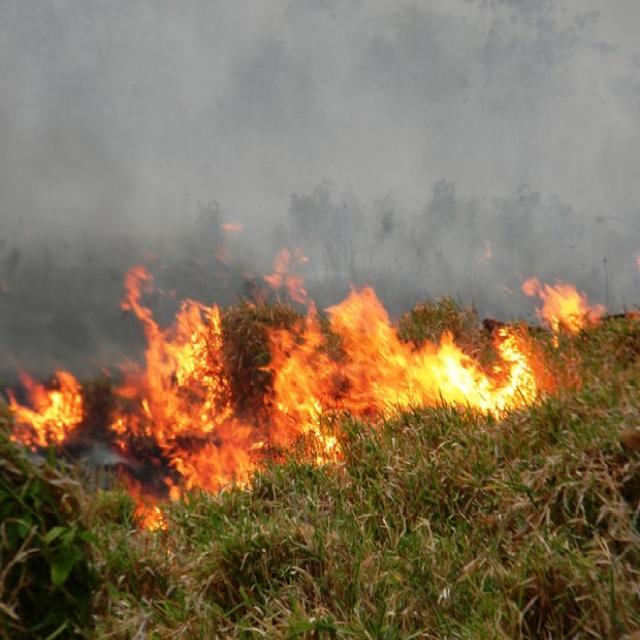fire: (273, 282, 398, 474), (136, 302, 246, 501), (426, 322, 540, 416), (540, 274, 598, 336)
